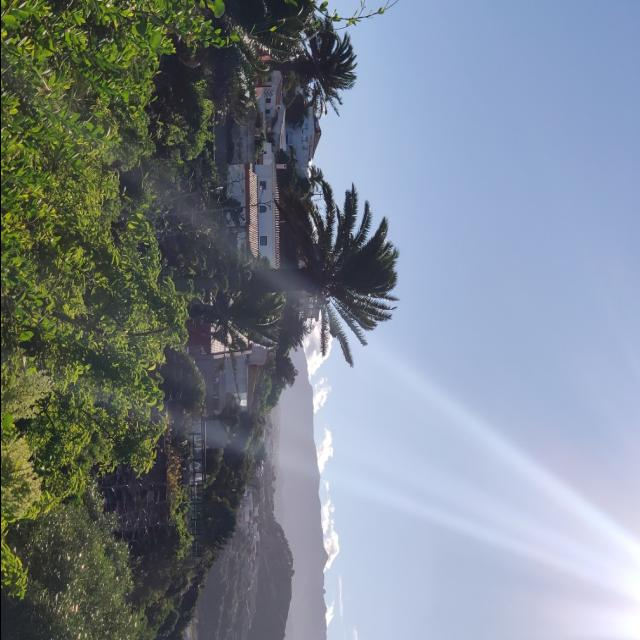Palm-Trees: (238, 190, 400, 374), (268, 19, 358, 120)
